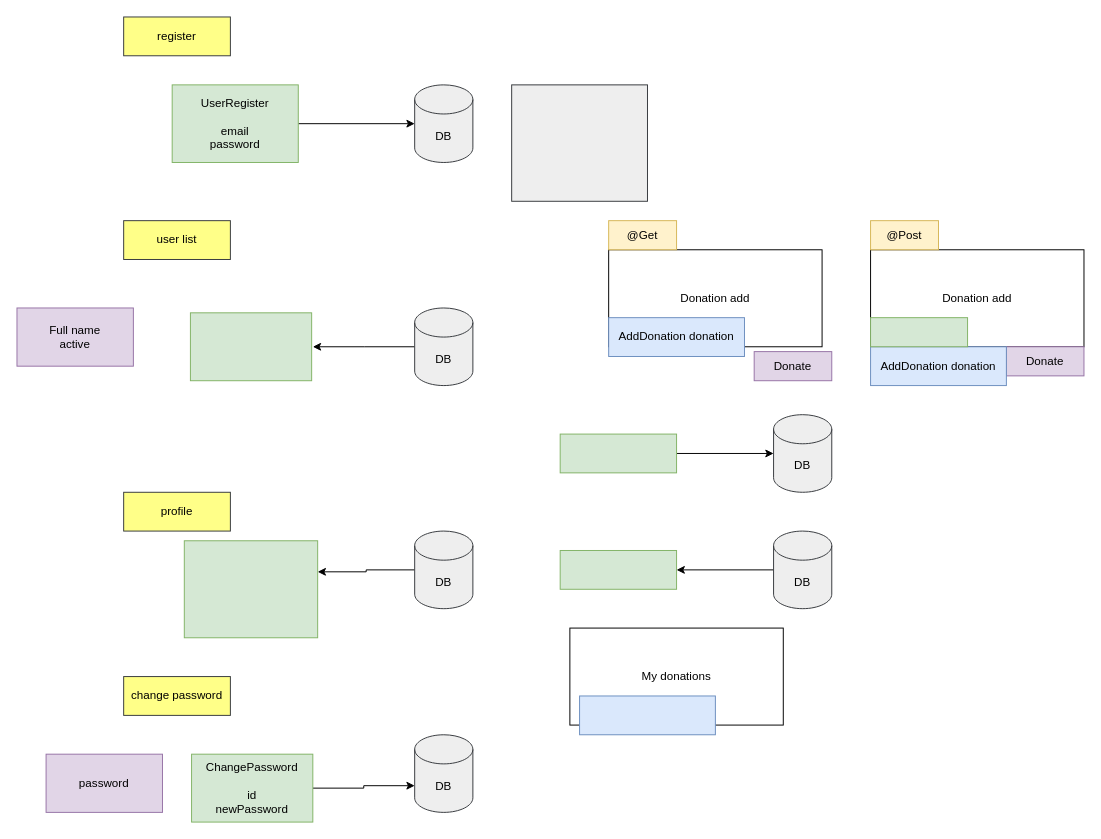
Image size: 1101x839. Some labels were removed from this diagram. The centre of each missing label's shape, as x and y in pixels:
"@ModelAttribute" goes at point 919,332.
"AddDonation" goes at point 618,453.
"Set<DonationInfo>" goes at point 618,569.
"Set<DonationInfo> donations" goes at point 647,715.
"User id first name last name email password" goes at point 579,142.
"UserListInfo id name" goes at point 250,346.
"UserProfile id name email" goes at point 250,589.
